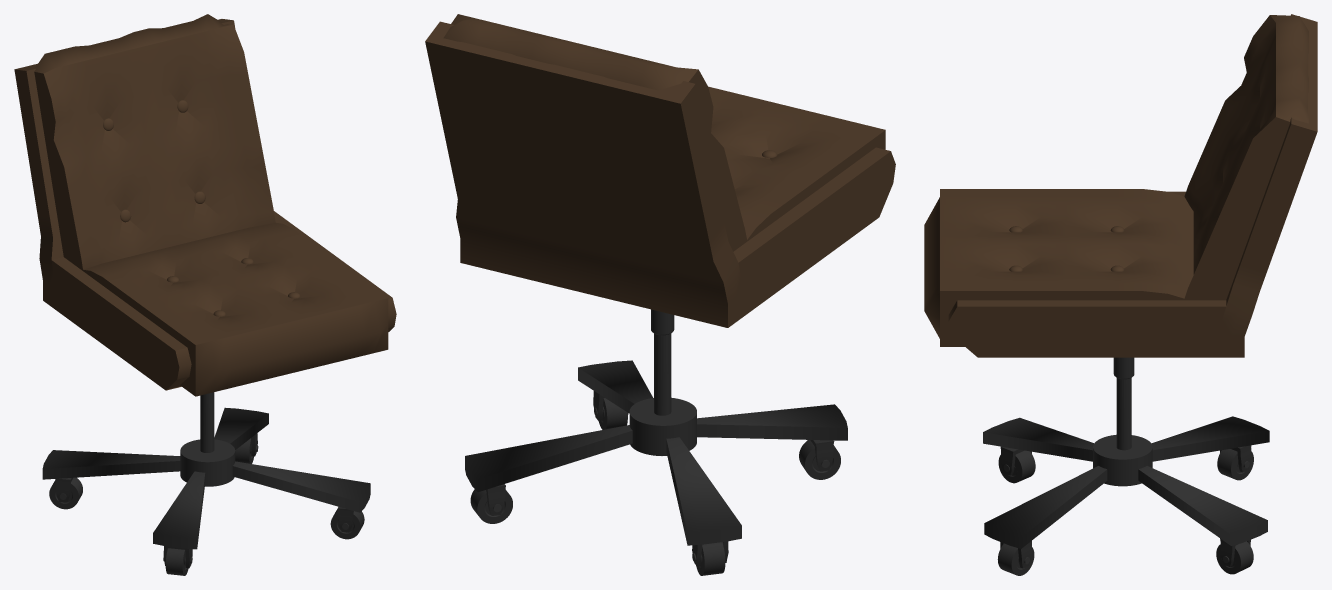
File: PD_SquishyChair_10_DF.fbx
3 renders of one model, left to right at view 1: azimuth 30°, elevation 25°; view 2: azimuth 150°, elevation 25°; view 3: azimuth 270°, elevation 25°, orthographic. The views are drawn at different scales.
Parts seen in each view (by area): view 1: SquishyChair; view 2: SquishyChair; view 3: SquishyChair.
Boxes of the visible parts, bbox=[...] form: SquishyChair: bbox=[14, 14, 396, 575]; SquishyChair: bbox=[425, 14, 895, 575]; SquishyChair: bbox=[924, 14, 1317, 575].
Size of the model in its own units: 0.5424 by 0.9624 by 0.7373.
